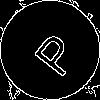P: (25, 25, 81, 80)
